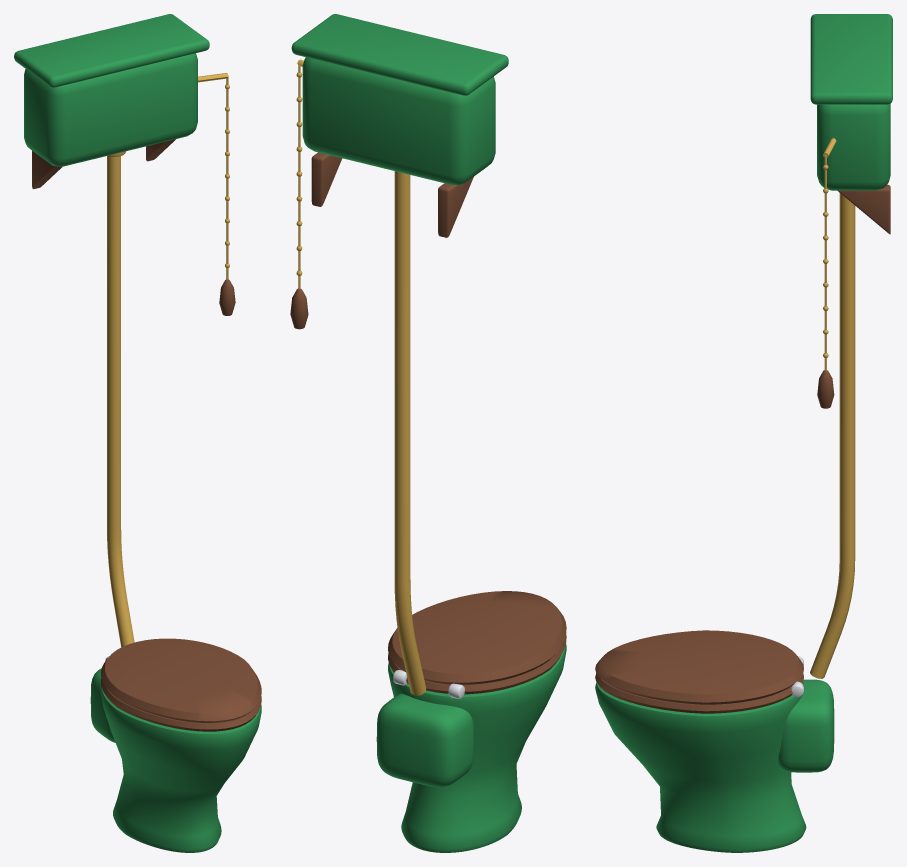
File: vaso_retro_caixa_alta_verde.glb
3 views of the same model, side by side, from view 1: azimuth 30°, elevation 25°; view 2: azimuth 150°, elevation 25°; view 3: azimuth 270°, elevation 25° (orthographic). The views are drawn at different scales.
Visible parts, largest first — view 1: vaso_retro_caixa_alta_verde, tampa, assento; view 2: vaso_retro_caixa_alta_verde, tampa, assento; view 3: vaso_retro_caixa_alta_verde, tampa, assento.
Part boxes in pixels (left/top/right/bottom): vaso_retro_caixa_alta_verde: left=14, top=14, right=261, bottom=852; tampa: left=100, top=638, right=261, bottom=722; assento: left=100, top=678, right=261, bottom=731; vaso_retro_caixa_alta_verde: left=290, top=14, right=566, bottom=852; tampa: left=388, top=591, right=566, bottom=684; assento: left=388, top=634, right=566, bottom=694; vaso_retro_caixa_alta_verde: left=595, top=14, right=892, bottom=852; tampa: left=595, top=630, right=803, bottom=704; assento: left=595, top=673, right=803, bottom=713.
Size of the model in its own units: 0.535 by 1.99 by 0.688.
1 material, 1 textured.
